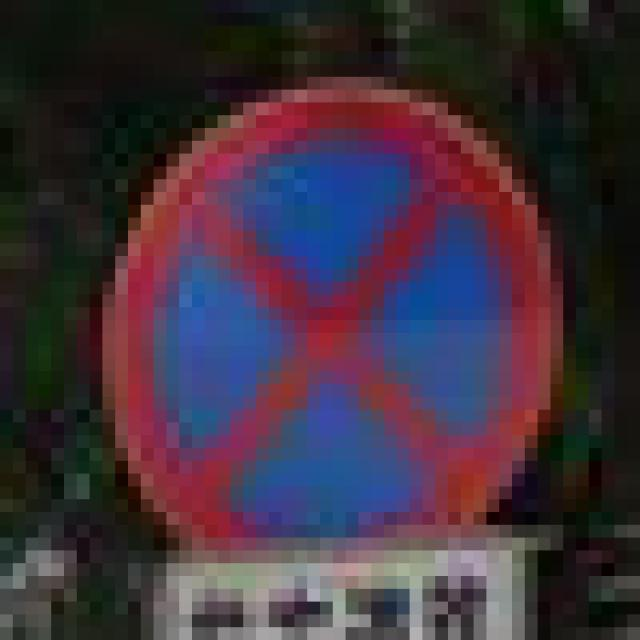no stopping or standing: (91, 77, 570, 571)
